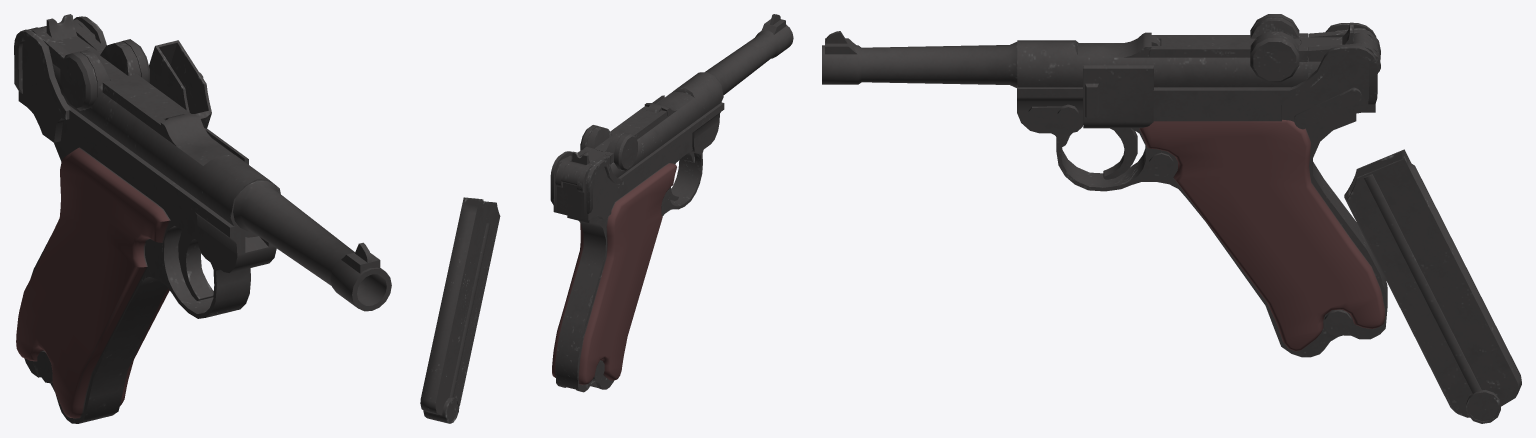
File: 012_Luger_cc0.glb
The picture shows the model from 3 angles, left to right: view 1: azimuth 30°, elevation 25°; view 2: azimuth 150°, elevation 25°; view 3: azimuth 270°, elevation 25°; orthographic projection. The views are drawn at different scales.
Visible parts, largest first — view 1: Body, Barrel, Slide, Part3, Clip, Part2, Part1, Trigger; view 2: Body, Clip, Slide, Barrel, Part3, Part2, Part1; view 3: Body, Clip, Barrel, Slide, Part3, Part2, Part1, Trigger.
Part boxes in pixels (x1,y1,x2,y2): Body: (14,16,276,423); Barrel: (233,180,391,311); Slide: (52,63,280,237); Part3: (39,14,149,110); Clip: (149,40,211,128); Part2: (96,55,190,135); Part1: (160,114,233,165); Trigger: (178,230,213,300); Body: (550,95,724,392); Clip: (420,197,500,423); Slide: (610,72,723,177); Barrel: (705,14,793,95); Part3: (561,125,637,185); Part2: (594,106,667,151); Part1: (644,92,693,116); Body: (1017,23,1387,357); Clip: (1344,149,1521,423); Barrel: (822,31,1017,87); Slide: (1017,40,1320,87); Part3: (1250,14,1380,82); Part2: (1149,35,1301,57); Part1: (1077,32,1160,57); Trigger: (1061,128,1137,179).
Bounding box in the file's own units: 0.0772 × 0.1546 × 0.2938.
1 material, 1 textured.
